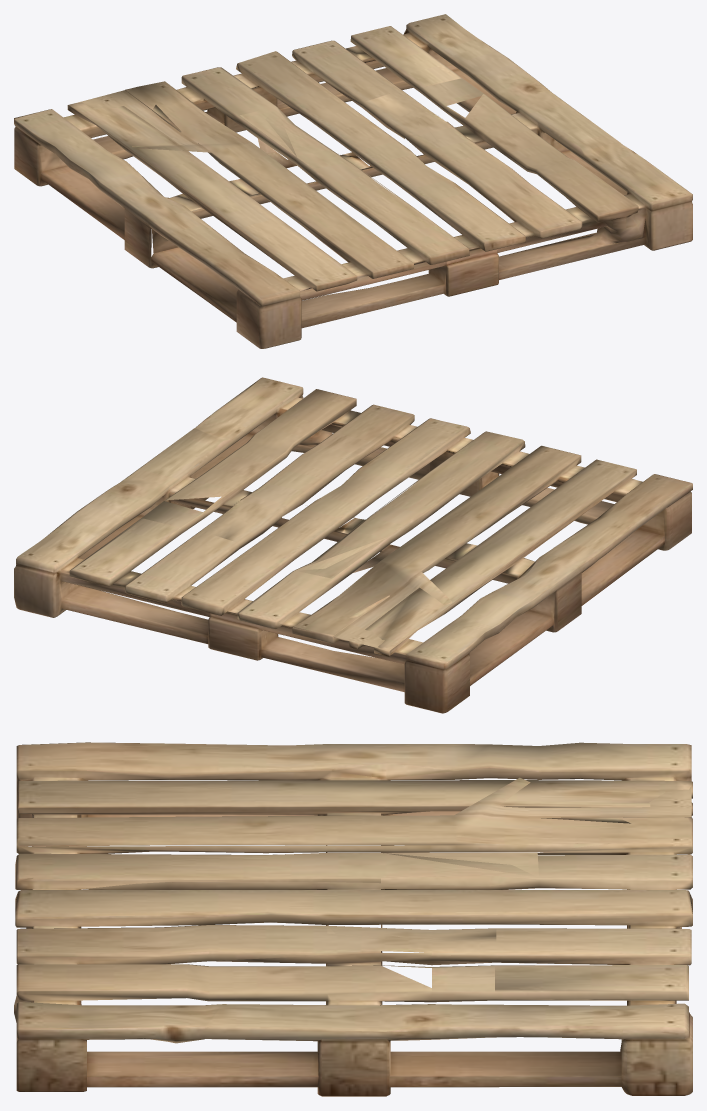
The model's file is pallet.glb.
3 renders of one model, top to bottom at view 1: azimuth 30°, elevation 25°; view 2: azimuth 150°, elevation 25°; view 3: azimuth 270°, elevation 25°, orthographic. The views are drawn at different scales.
Visible parts, largest first — view 1: tripo_node_52e99544-ed0a-444e-a09d-7376ec0296ac; view 2: tripo_node_52e99544-ed0a-444e-a09d-7376ec0296ac; view 3: tripo_node_52e99544-ed0a-444e-a09d-7376ec0296ac.
Part boxes in pixels (x1,y1,x2,y2): tripo_node_52e99544-ed0a-444e-a09d-7376ec0296ac: (14, 14, 692, 348); tripo_node_52e99544-ed0a-444e-a09d-7376ec0296ac: (14, 377, 692, 713); tripo_node_52e99544-ed0a-444e-a09d-7376ec0296ac: (14, 742, 692, 1096).
Size of the model in its own units: 1.2 by 0.144 by 1.2.
Materials: 1 (1 with a texture image).
